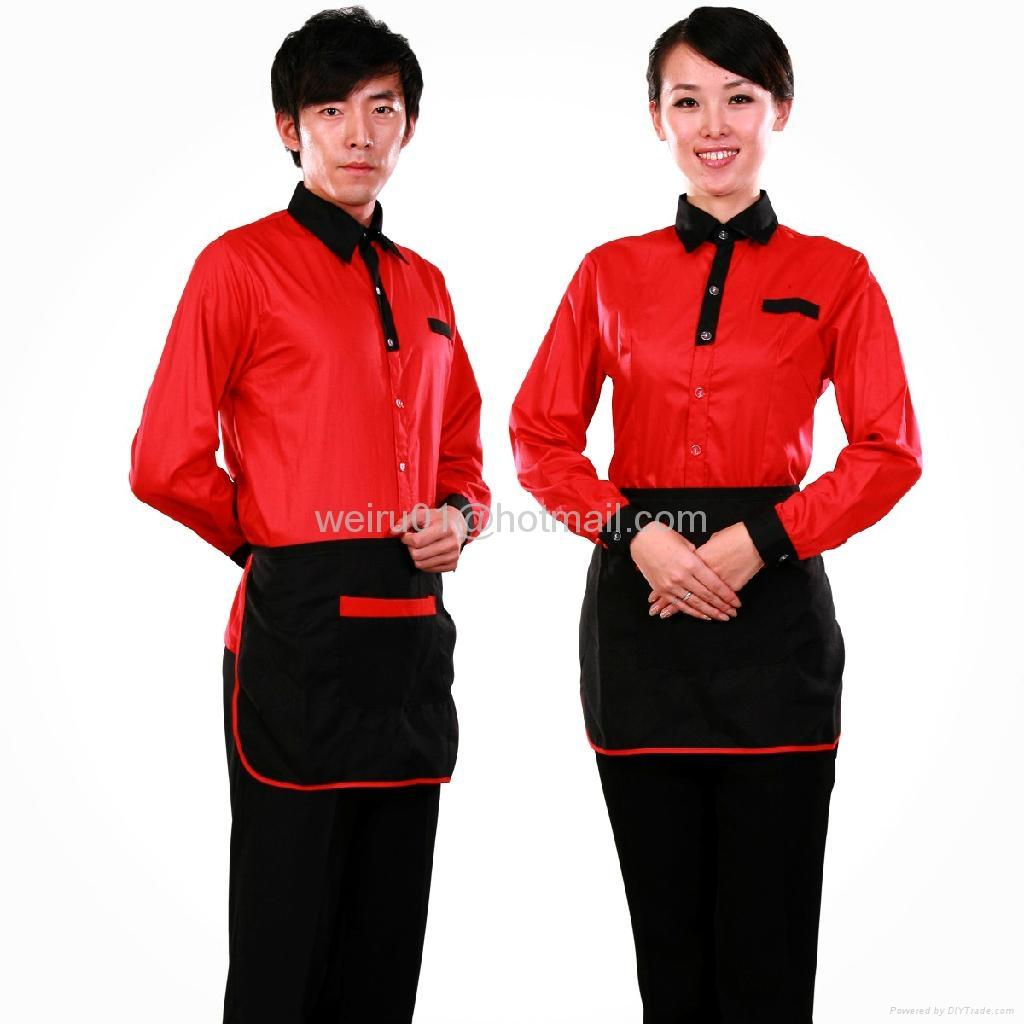face: (658, 26, 772, 198), (300, 50, 408, 208)
